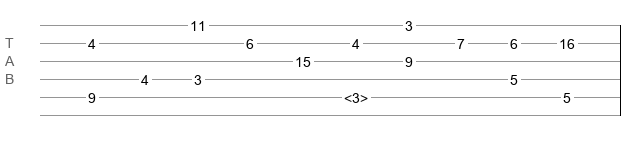11: (190, 18, 206, 28)
15: (295, 54, 311, 64)
16: (559, 36, 575, 46)
3: (194, 72, 202, 82), (405, 18, 413, 28)
4: (88, 36, 96, 46), (141, 72, 149, 82), (352, 36, 360, 46)
5: (510, 72, 518, 82), (563, 90, 571, 100)
6: (246, 36, 254, 46), (510, 36, 518, 46)
7: (457, 36, 465, 46)
9: (88, 90, 96, 100), (405, 54, 413, 64)
harmonic: (344, 90, 368, 100)
